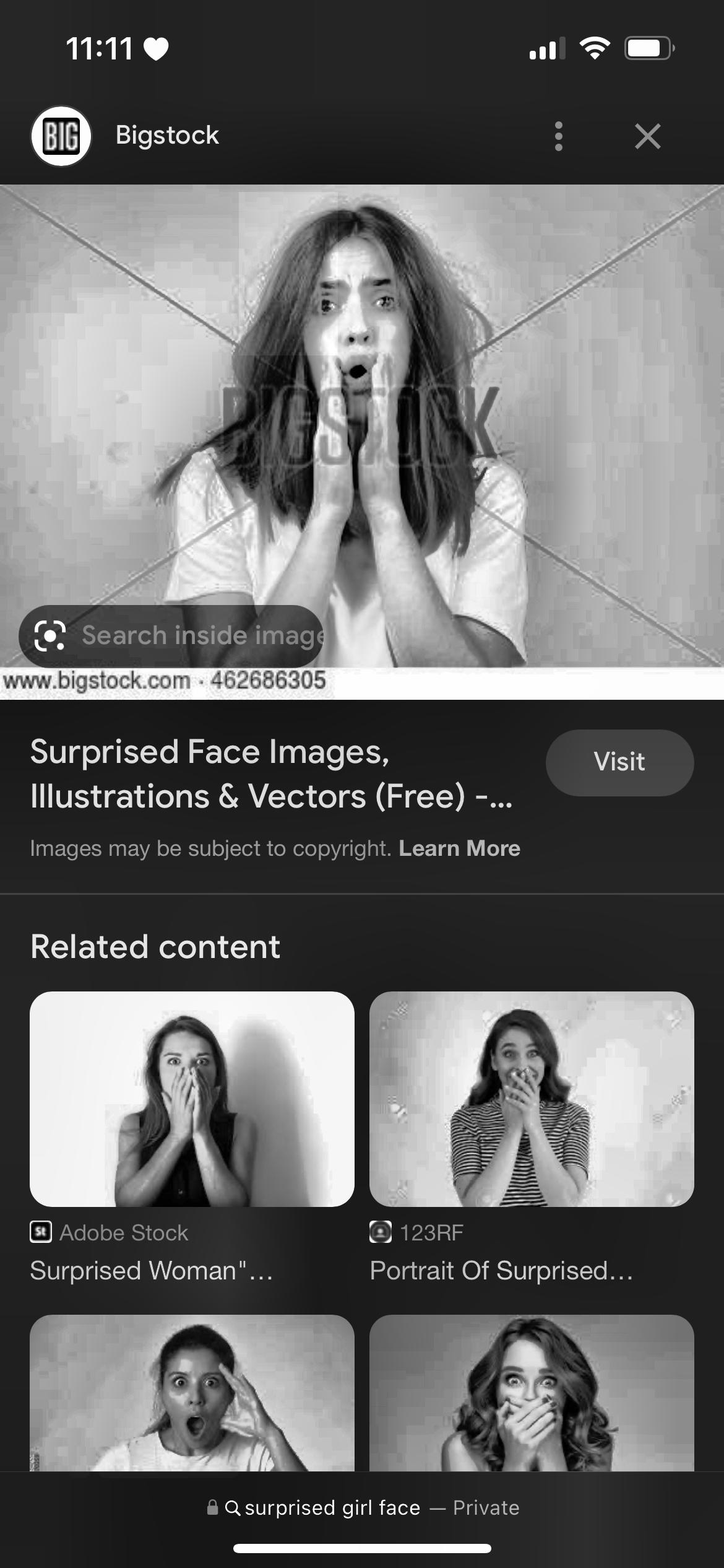surprised: (295, 237, 418, 439)
